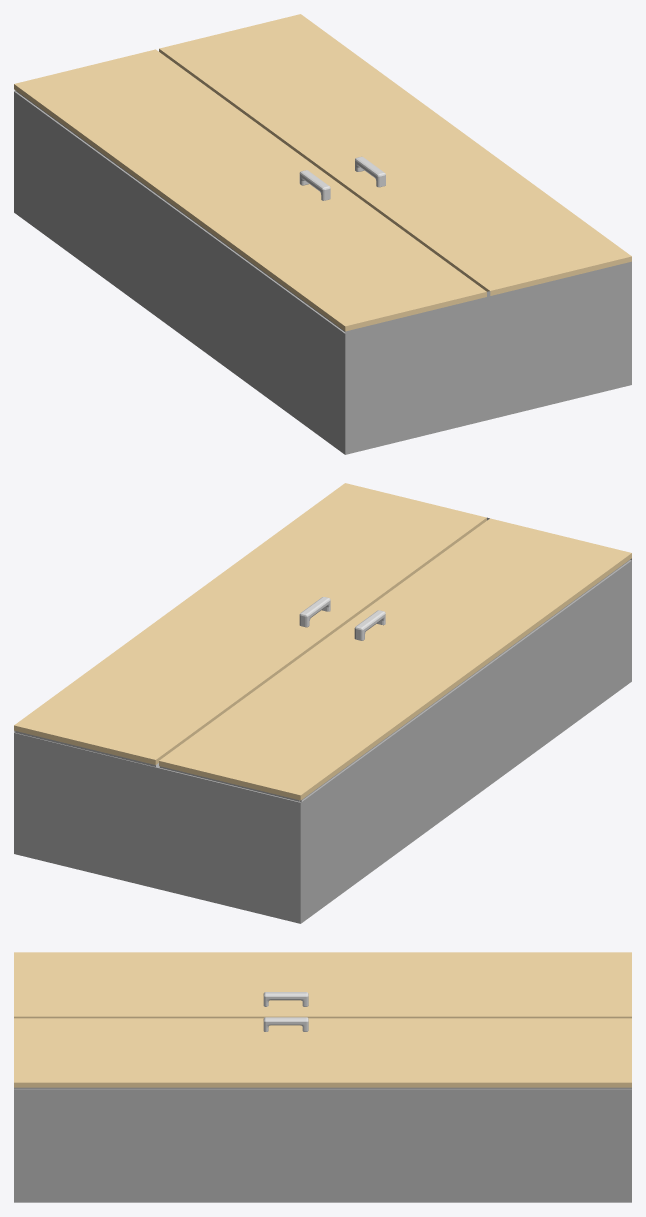
3 views of the same model, one above another, from view 1: azimuth 30°, elevation 25°; view 2: azimuth 150°, elevation 25°; view 3: azimuth 270°, elevation 25° (orthographic). The views are drawn at different scales.
Parts seen in each view (by area): view 1: Cube; view 2: Cube; view 3: Cube.
Part boxes in pixels (box(x1,y1,x2,y2)): Cube: box(14, 14, 631, 454); Cube: box(14, 483, 631, 923); Cube: box(14, 952, 631, 1202).
Size of the model in its own units: 100 by 47 by 200.
